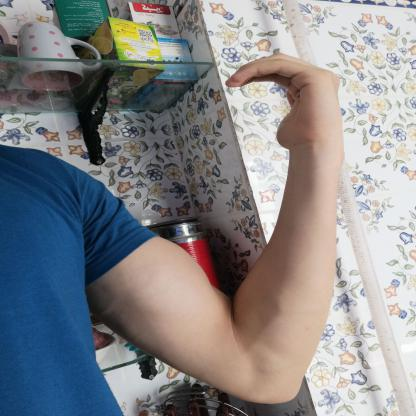HAA: (212, 42, 363, 162)
